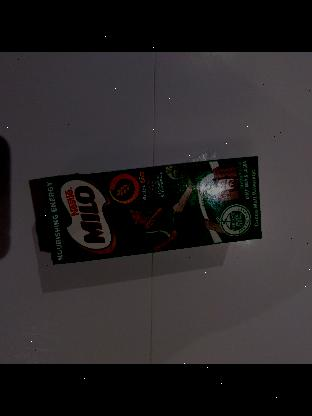Others: (39, 155, 263, 267)
